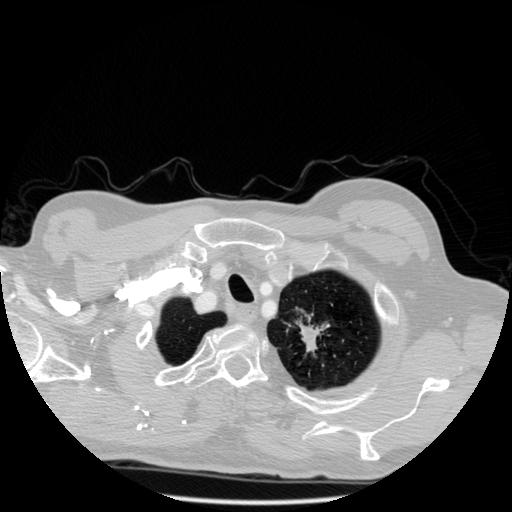nodule: (296, 321, 325, 350)
